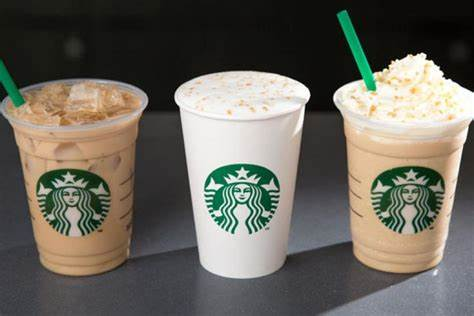starbucks Originale: (198, 158, 284, 244), (365, 158, 449, 240), (29, 162, 116, 240)
